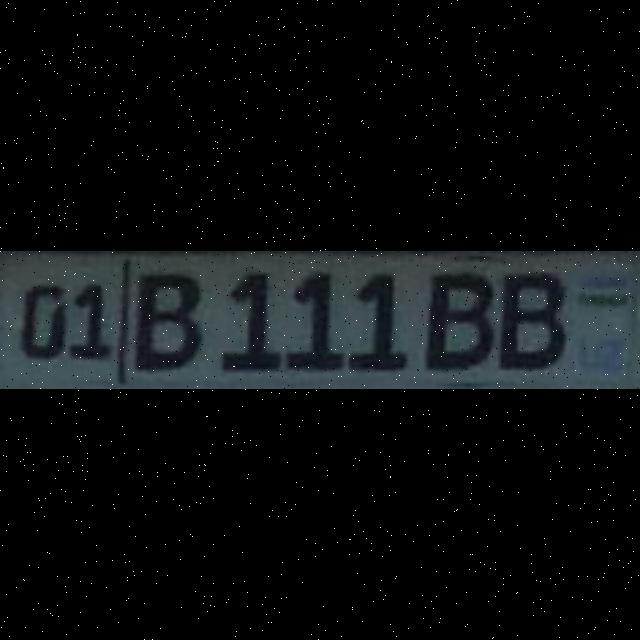0: (16, 278, 62, 358)
1: (220, 267, 278, 365), (284, 270, 340, 368), (349, 268, 403, 368), (71, 281, 109, 357)
B: (131, 270, 199, 368), (496, 270, 564, 366), (424, 267, 488, 365)
